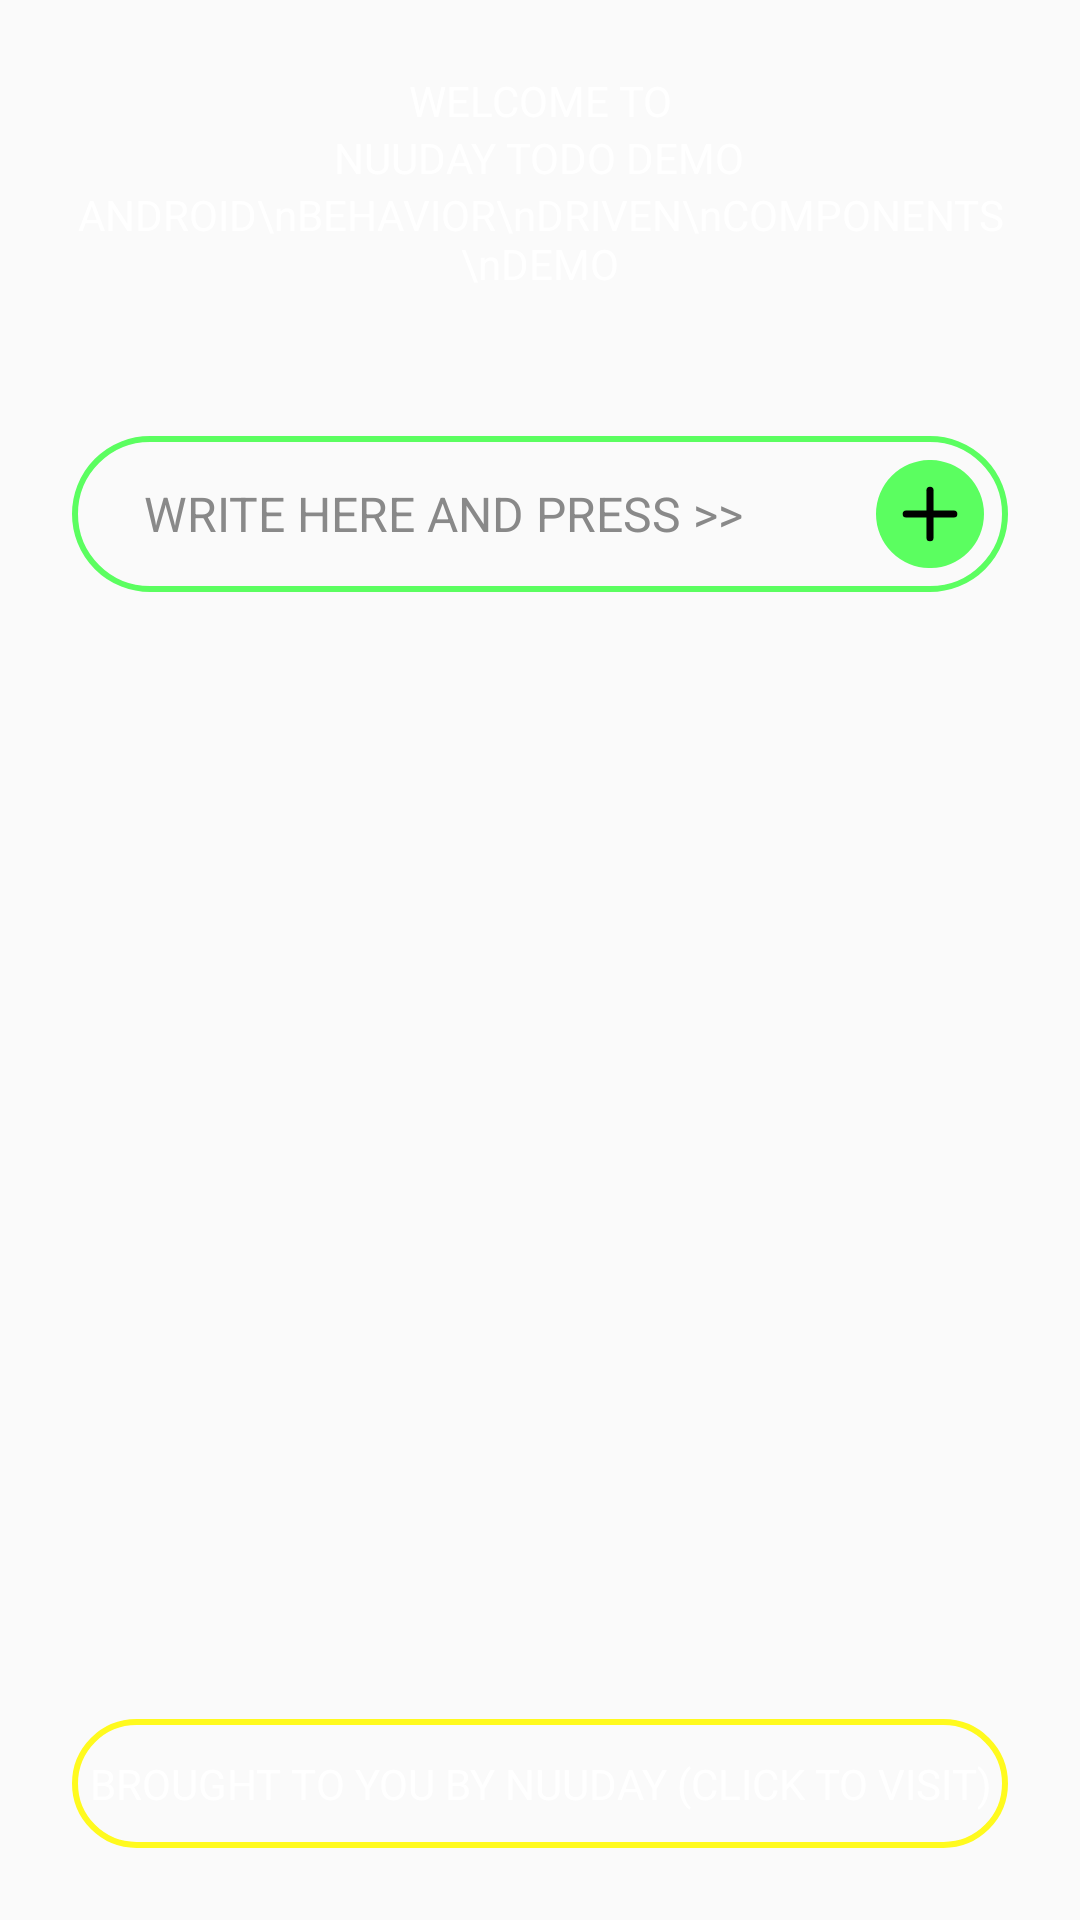

Screen size 1080w x 1920h. Icon name, then its box in pixels as (x1, y1, x2, y2):
add: (876, 460, 984, 568)
